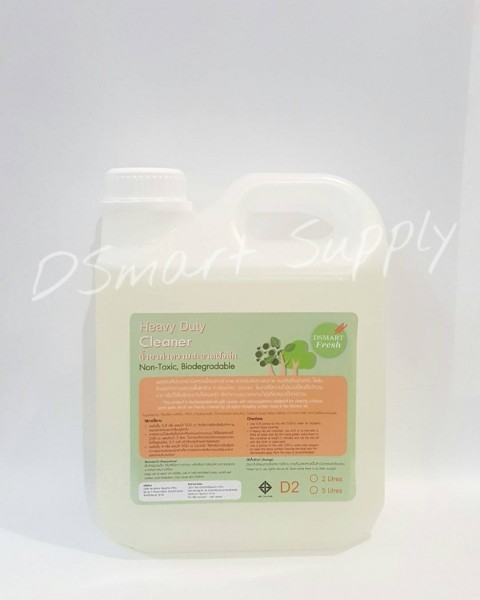Cleaning_solution: (73, 162, 396, 566)
